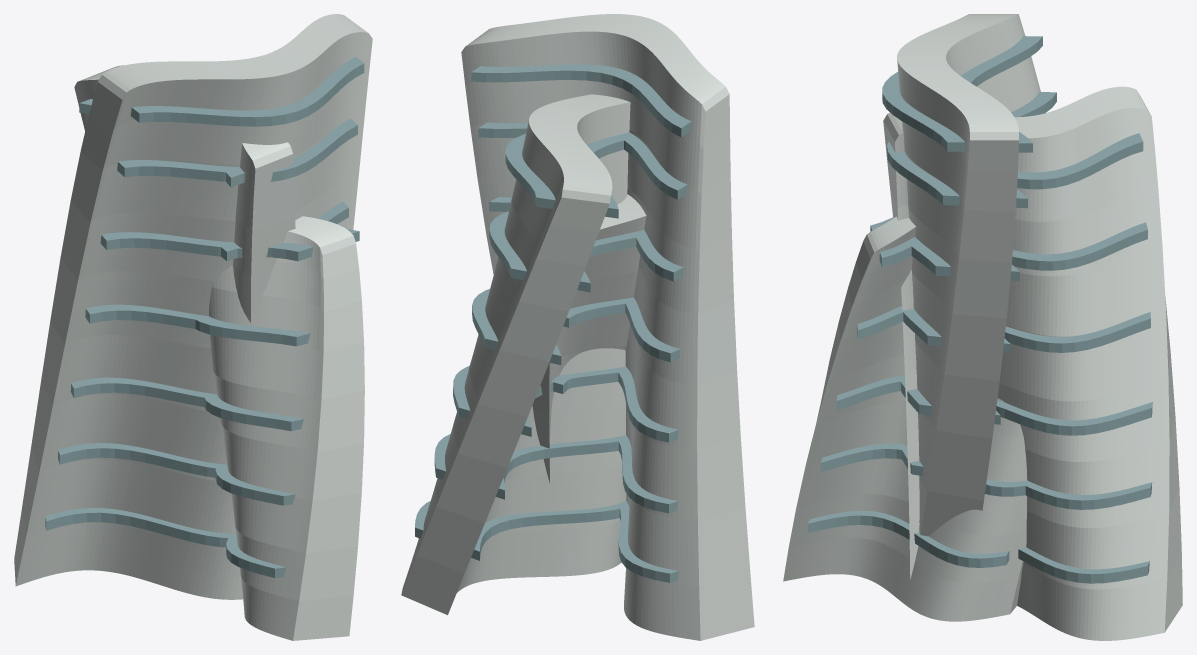
File: B_massing.glb
3 renders of one model, left to right at view 1: azimuth 30°, elevation 25°; view 2: azimuth 150°, elevation 25°; view 3: azimuth 270°, elevation 25°, orthographic. The views are drawn at different scales.
Visible parts, largest first — view 1: URBAN_BACK_0, URBAN_BACK_2, URBAN_BACK_1, FOLDED_CITY_GROUND_0_6_-1, FOLDED_CITY_GROUND_0_5_-1, FOLDED_CITY_GROUND_0_0_-1, FOLDED_CITY_GROUND_0_1_-1, FOLDED_CITY_GROUND_0_4_-1, FOLDED_CITY_GROUND_0_2_-1, FOLDED_CITY_GROUND_0_3_-1, FOLDED_CITY_GROUND_2_3_-1, FOLDED_CITY_GROUND_2_2_-1 (+3 smaller); view 2: URBAN_BACK_0, URBAN_BACK_1, URBAN_BACK_2, FOLDED_CITY_GROUND_0_6_1, FOLDED_CITY_GROUND_1_0_1, FOLDED_CITY_GROUND_0_5_1, FOLDED_CITY_GROUND_1_1_1, FOLDED_CITY_GROUND_1_5_-1, FOLDED_CITY_GROUND_0_0_1, FOLDED_CITY_GROUND_0_1_1, FOLDED_CITY_GROUND_0_2_1, FOLDED_CITY_GROUND_0_4_1 (+8 smaller); view 3: URBAN_BACK_1, URBAN_BACK_0, URBAN_BACK_2, FOLDED_CITY_GROUND_2_0_1, FOLDED_CITY_GROUND_1_3_-1, FOLDED_CITY_GROUND_1_4_-1, FOLDED_CITY_GROUND_1_5_-1, FOLDED_CITY_GROUND_1_2_-1, FOLDED_CITY_GROUND_1_1_-1, FOLDED_CITY_GROUND_1_0_-1, FOLDED_CITY_GROUND_0_6_-1, FOLDED_CITY_GROUND_2_1_1 (+8 smaller).
Boxes of the visible parts, bbox=[...] form: URBAN_BACK_0: bbox=[14, 14, 372, 599]; URBAN_BACK_2: bbox=[209, 216, 364, 640]; URBAN_BACK_1: bbox=[74, 65, 295, 322]; FOLDED_CITY_GROUND_0_6_-1: bbox=[130, 56, 364, 126]; FOLDED_CITY_GROUND_0_5_-1: bbox=[117, 118, 357, 182]; FOLDED_CITY_GROUND_0_0_-1: bbox=[45, 508, 236, 547]; FOLDED_CITY_GROUND_0_1_-1: bbox=[58, 443, 227, 477]; FOLDED_CITY_GROUND_0_4_-1: bbox=[100, 201, 348, 257]; FOLDED_CITY_GROUND_0_2_-1: bbox=[70, 377, 217, 406]; FOLDED_CITY_GROUND_0_3_-1: bbox=[85, 304, 238, 328]; FOLDED_CITY_GROUND_2_3_-1: bbox=[189, 313, 310, 346]; FOLDED_CITY_GROUND_2_2_-1: bbox=[203, 392, 303, 430]; URBAN_BACK_0: bbox=[461, 14, 754, 640]; URBAN_BACK_1: bbox=[401, 94, 630, 615]; URBAN_BACK_2: bbox=[532, 194, 646, 483]; FOLDED_CITY_GROUND_0_6_1: bbox=[471, 64, 691, 137]; FOLDED_CITY_GROUND_1_0_1: bbox=[471, 504, 619, 560]; FOLDED_CITY_GROUND_0_5_1: bbox=[478, 122, 687, 199]; FOLDED_CITY_GROUND_1_1_1: bbox=[496, 437, 628, 499]; FOLDED_CITY_GROUND_1_5_-1: bbox=[505, 133, 555, 208]; FOLDED_CITY_GROUND_0_0_1: bbox=[618, 501, 678, 582]; FOLDED_CITY_GROUND_0_1_1: bbox=[616, 435, 678, 513]; FOLDED_CITY_GROUND_0_2_1: bbox=[618, 371, 678, 442]; FOLDED_CITY_GROUND_0_4_1: bbox=[489, 197, 683, 281]; URBAN_BACK_1: bbox=[883, 86, 1182, 640]; URBAN_BACK_0: bbox=[897, 14, 1040, 536]; URBAN_BACK_2: bbox=[783, 216, 1027, 621]; FOLDED_CITY_GROUND_2_0_1: bbox=[807, 510, 1009, 567]; FOLDED_CITY_GROUND_1_3_-1: bbox=[1004, 312, 1150, 352]; FOLDED_CITY_GROUND_1_4_-1: bbox=[1012, 222, 1147, 270]; FOLDED_CITY_GROUND_1_5_-1: bbox=[1017, 133, 1143, 189]; FOLDED_CITY_GROUND_1_2_-1: bbox=[997, 400, 1152, 435]; FOLDED_CITY_GROUND_1_1_-1: bbox=[1017, 480, 1152, 509]; FOLDED_CITY_GROUND_1_0_-1: bbox=[1018, 547, 1149, 583]; FOLDED_CITY_GROUND_0_6_-1: bbox=[882, 71, 965, 151]; FOLDED_CITY_GROUND_2_1_1: bbox=[820, 443, 1025, 496].
Bounding box in the file's own units: 3546 × 5500 × 3833.
